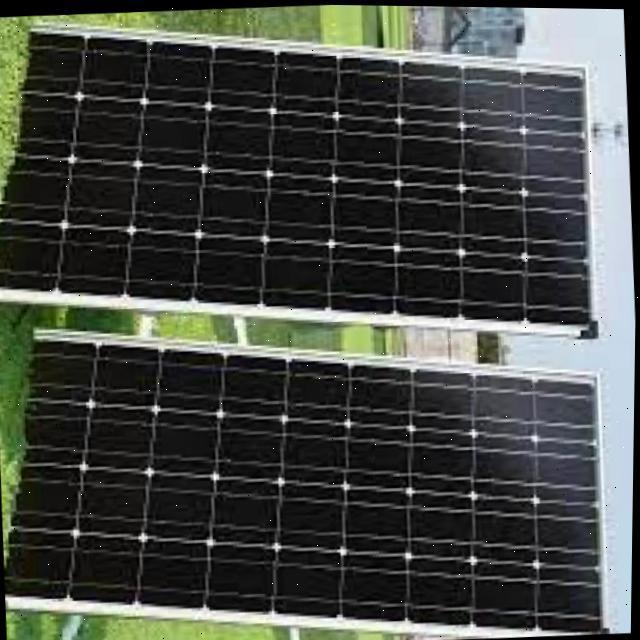Normal Solar Panel: (0, 0, 603, 370), (0, 307, 612, 640)
